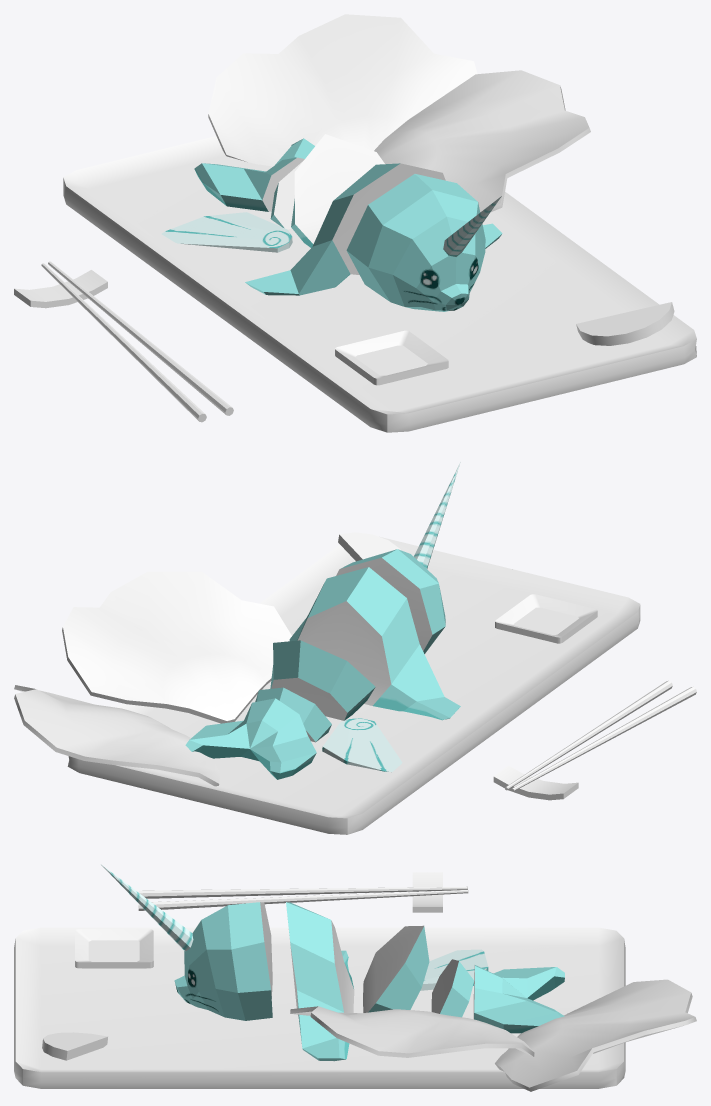
The model's file is Asset_Ashley_morte.fbx.
The picture shows the model from 3 angles, top to bottom: view 1: azimuth 30°, elevation 25°; view 2: azimuth 150°, elevation 25°; view 3: azimuth 270°, elevation 25°; orthographic projection. The views are drawn at different scales.
Visible parts, largest first — view 1: pCube22, pCylinder5, pCylinder4, polySurface5, polySurface3, polySurface4, pCube24, polySurface2, STP_polySurface_Wings, pCylinder7, polySurface9, pCylinder2 (+4 smaller); view 2: pCube22, pCylinder4, pCylinder5, polySurface4, polySurface2, polySurface3, polySurface7, pCube24, STP_polySurface_Wings, polySurface5, polySurface8, pPlane7 (+5 smaller); view 3: pCube22, pCylinder5, polySurface5, pCylinder4, polySurface4, polySurface2, polySurface3, pCube24, pCylinder1, pCylinder2, pPlane7, pCylinder7 (+5 smaller).
Part boxes in pixels (<box>): pCube22: <box>63,136,696,432</box>; pCylinder5: <box>208,14,477,166</box>; pCylinder4: <box>374,70,590,211</box>; polySurface5: <box>346,174,485,311</box>; polySurface3: <box>291,134,384,247</box>; polySurface4: <box>245,163,502,295</box>; pCube24: <box>335,330,448,385</box>; polySurface2: <box>194,138,314,211</box>; STP_polySurface_Wings: <box>161,212,292,252</box>; pCylinder7: <box>576,302,674,345</box>; polySurface9: <box>332,163,445,274</box>; pCylinder2: <box>48,261,233,415</box>; pCube22: <box>67,536,640,834</box>; pCylinder4: <box>62,571,291,723</box>; pCylinder5: <box>14,685,219,786</box>; polySurface4: <box>289,567,460,720</box>; polySurface2: <box>185,698,316,779</box>; polySurface3: <box>270,640,375,720</box>; polySurface7: <box>297,601,391,705</box>; pCube24: <box>495,594,597,643</box>; STP_polySurface_Wings: <box>322,718,402,772</box>; polySurface5: <box>340,549,445,653</box>; polySurface8: <box>336,557,432,650</box>; pPlane7: <box>255,687,331,742</box>; pCube22: <box>14,927,625,1088</box>; pCylinder5: <box>495,979,696,1091</box>; polySurface5: <box>174,902,272,1020</box>; pCylinder4: <box>290,1006,534,1057</box>; polySurface4: <box>286,902,353,1061</box>; polySurface2: <box>473,965,564,1033</box>; polySurface3: <box>363,925,429,1012</box>; pCube24: <box>75,929,153,968</box>; pCylinder1: <box>138,886,467,898</box>; pCylinder2: <box>138,890,468,910</box>; pPlane7: <box>431,959,473,1017</box>; pCylinder7: <box>42,1032,107,1060</box>.
Size of the model in its own units: 47.83 by 15.06 by 56.65.
Materials: 1 (1 with a texture image).
